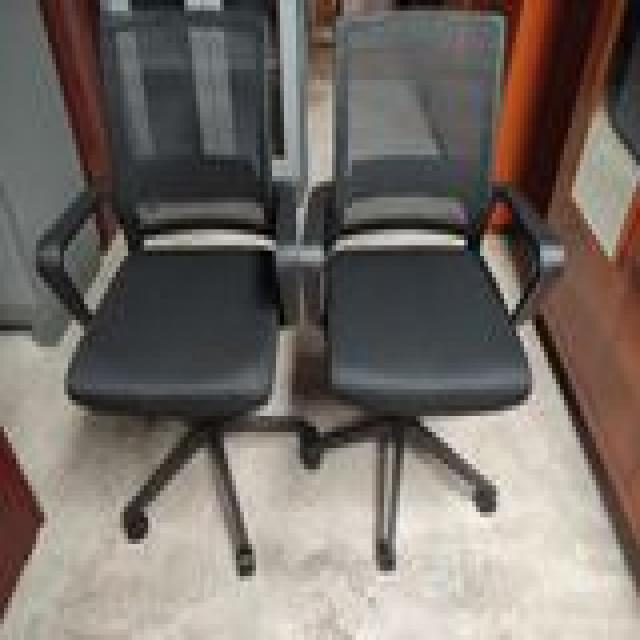others: (32, 6, 572, 582)
